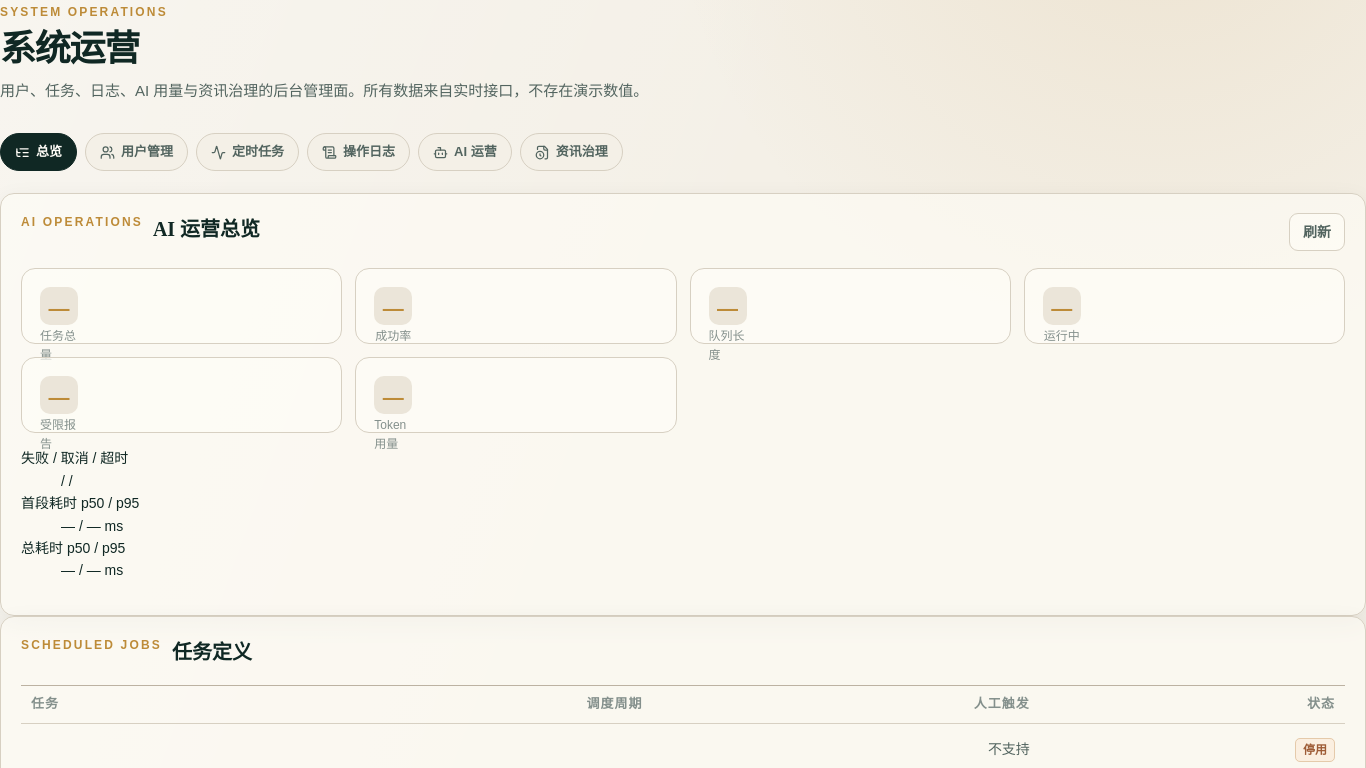
Test: AdminOverviewPage › mounts the users section only after clicking its tab
This screenshot has width=1366, height=768.
Click the button with class "admin-tab" showing "用户管理".
click(136, 152)  # box [85,133,188,172]
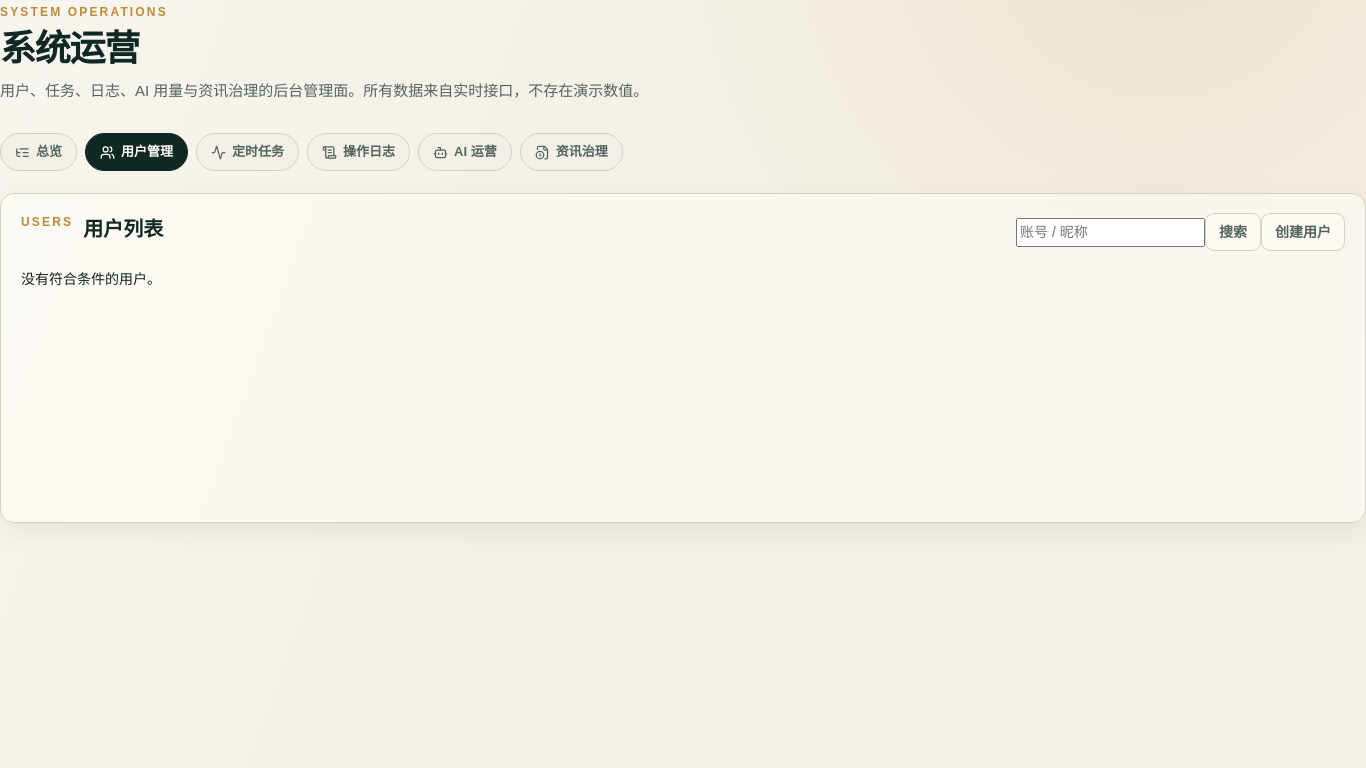
Expected: the text "用户列表" is shown, [83,214,163,246]
